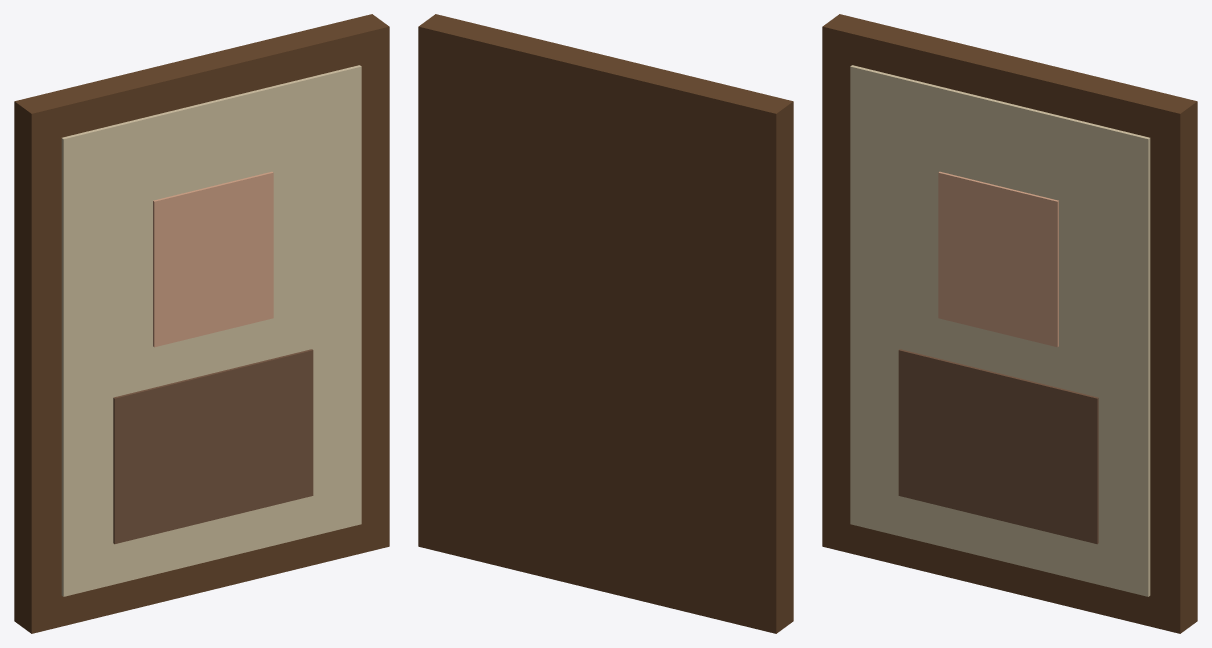
Rendered from GD_Frame_Portrait_01.glb.
The picture shows the model from 3 angles, left to right: view 1: azimuth 30°, elevation 25°; view 2: azimuth 150°, elevation 25°; view 3: azimuth 330°, elevation 25°; orthographic projection.
Parts seen in each view (by area): view 1: GD_Frame_Portrait_01; view 2: GD_Frame_Portrait_01; view 3: GD_Frame_Portrait_01.
Part boxes in pixels (x1,y1,x2,y2): GD_Frame_Portrait_01: [14, 14, 389, 633]; GD_Frame_Portrait_01: [418, 14, 793, 633]; GD_Frame_Portrait_01: [822, 14, 1197, 633].
Bounding box in the file's own units: 0.36 × 0.5 × 0.036.
1 material, 1 textured.
